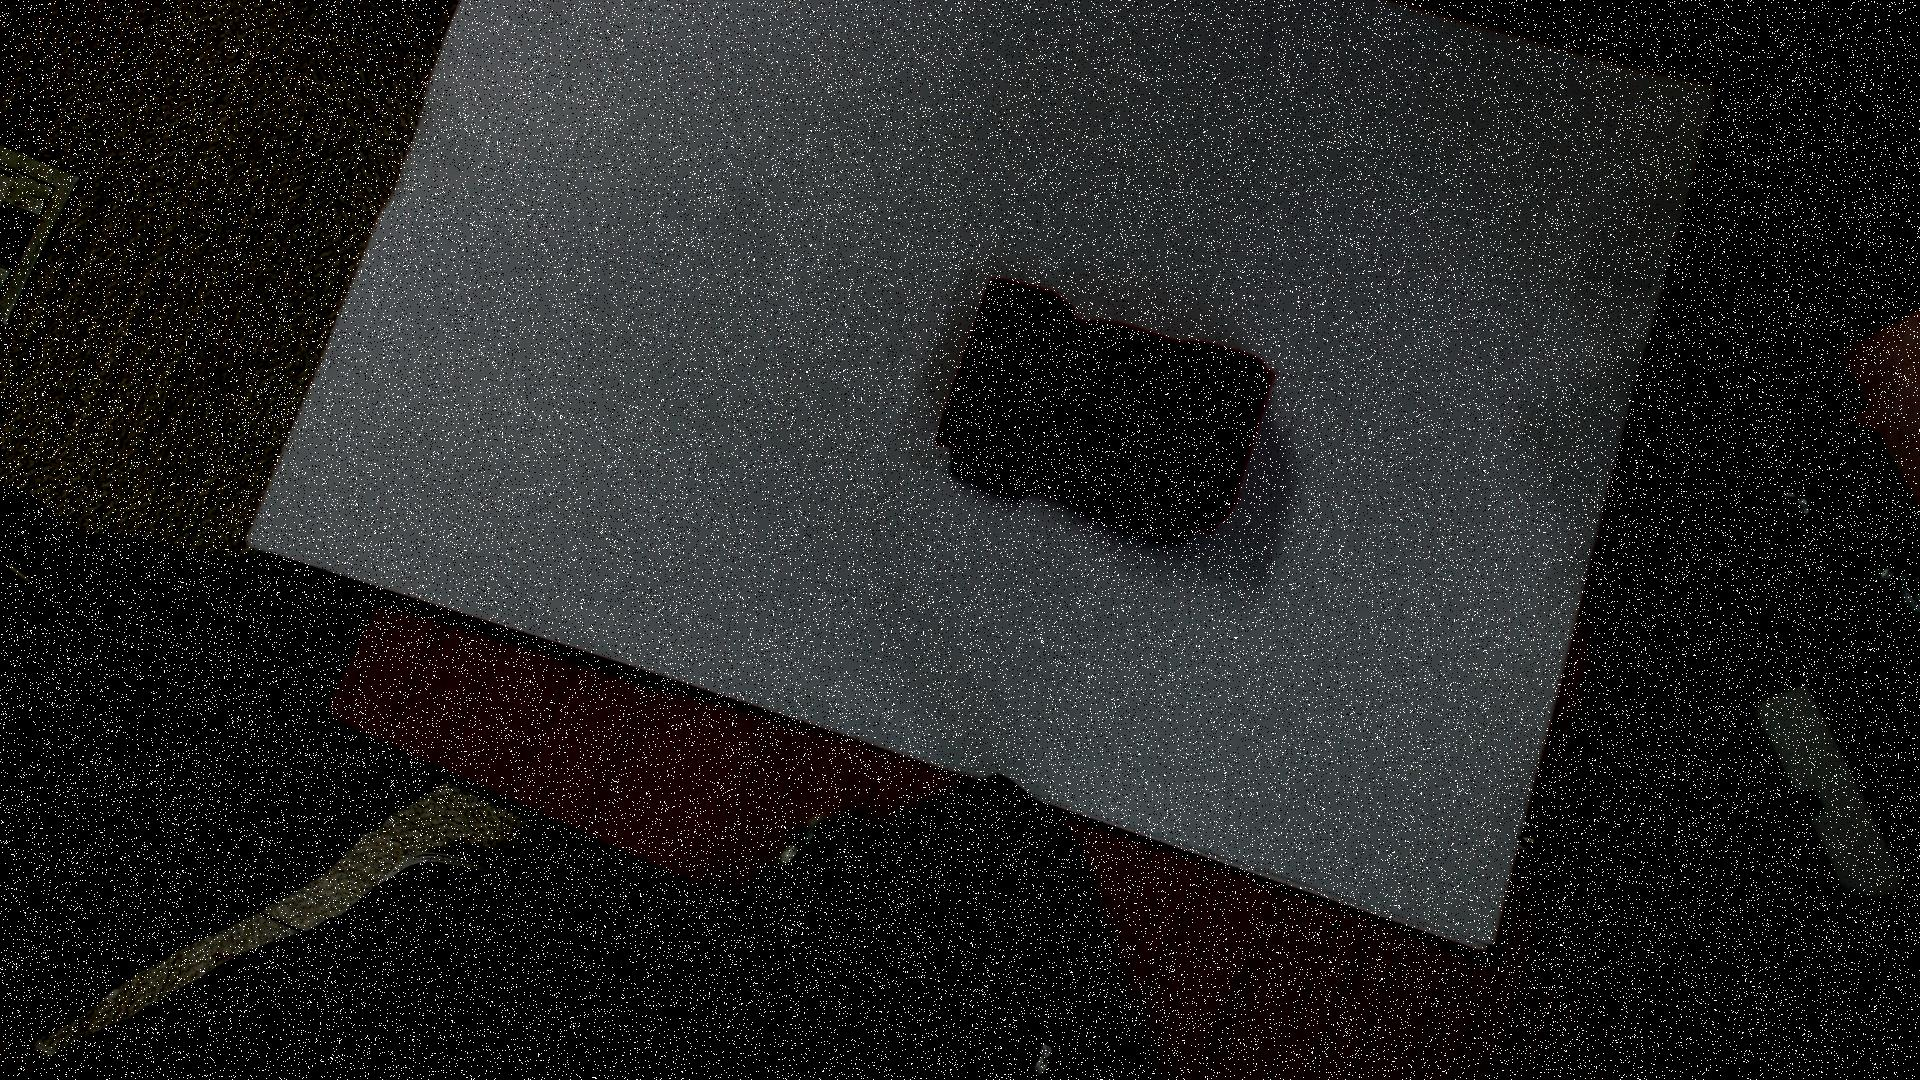Upper_ok: (938, 280, 1271, 531)
